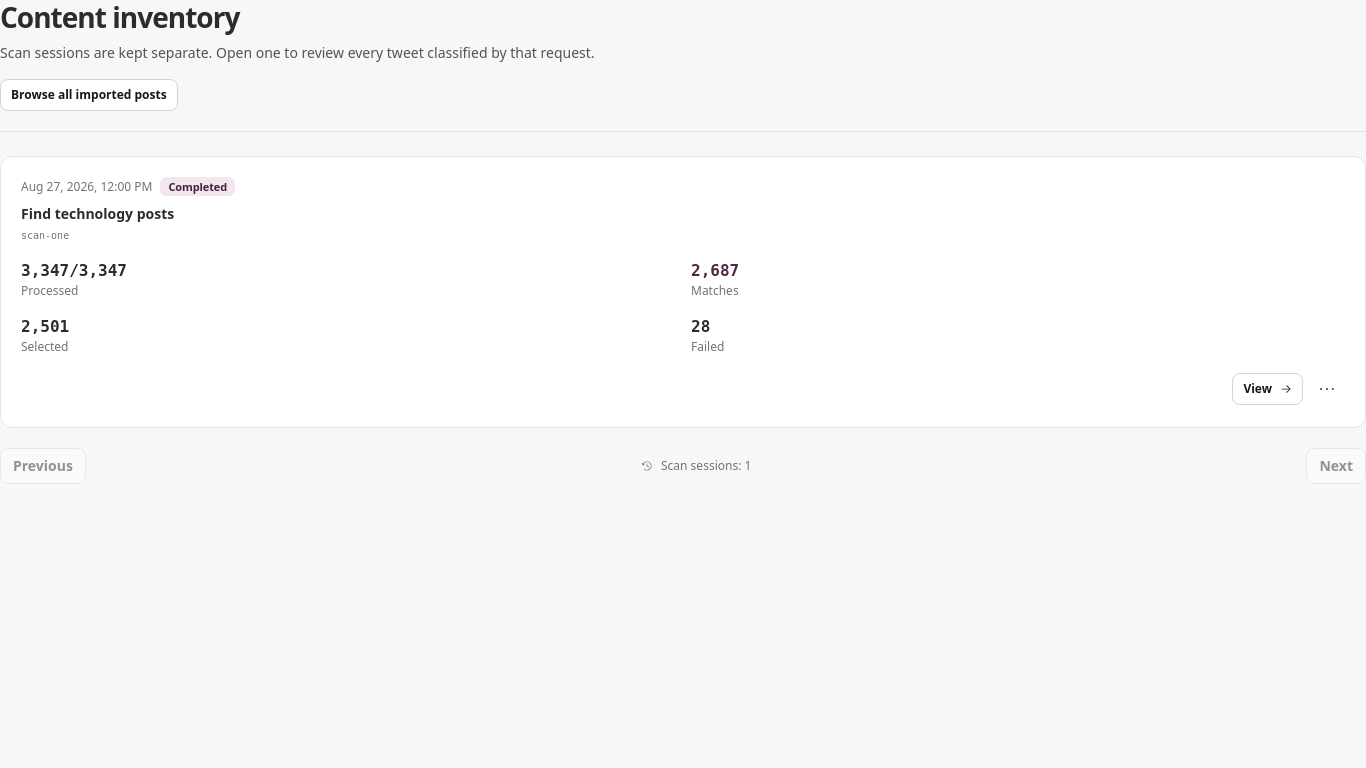
Scenario: redesigned dashboard interactions (isolated, no live APIs) › keeps Inventory as sessions only, and opens tweets only inside a session
Expected: the button named "More actions" is shown, [1309,371,1345,407]
Expected: the text "A full technology post" is not shown
Click the link to "/inventory/scan-one".
click(1268, 389)  # box [1232,373,1303,405]
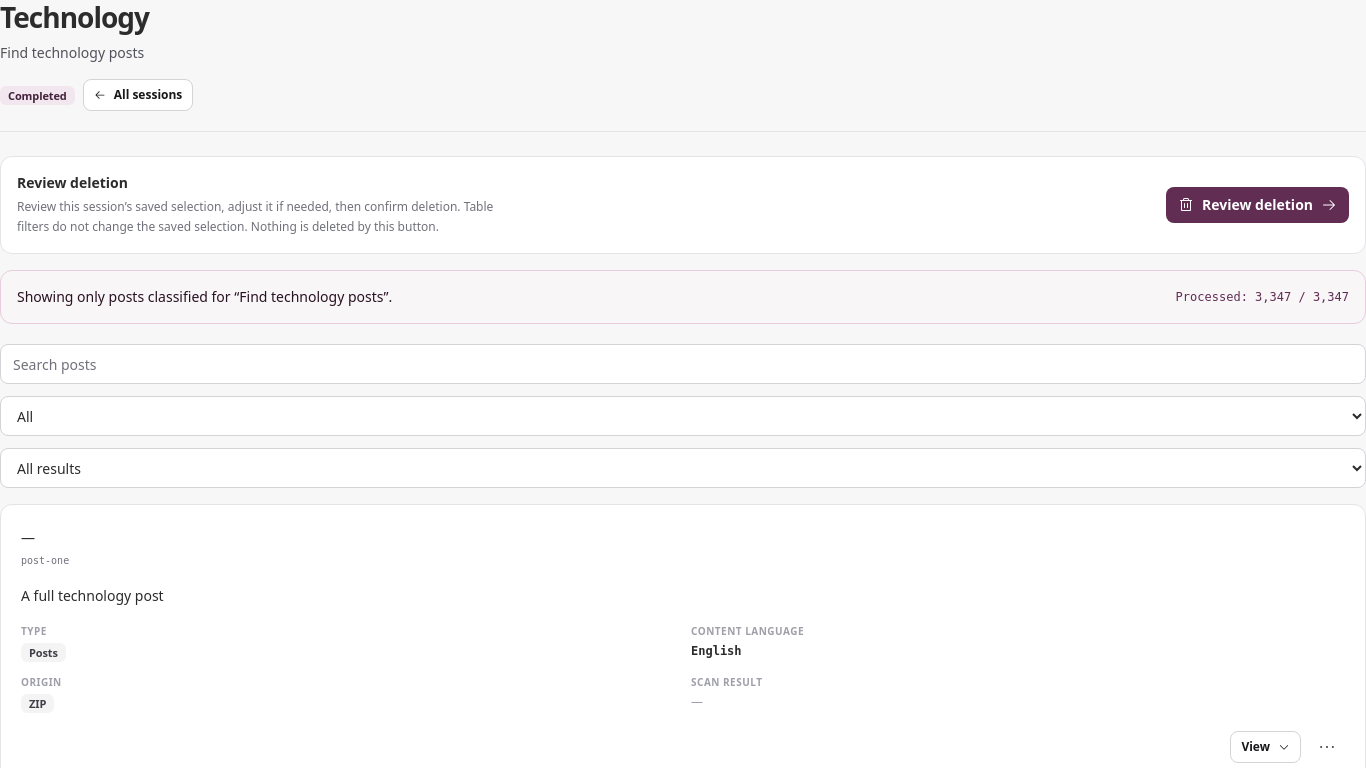
Expected: the button named "More actions" is shown, [1309,729,1345,765]
Expected: the text "A full technology post" is shown, [21,586,164,605]
Expected: the field with placeholder "Search posts" is shown, [0,344,1365,384]
Click the button "View".
click(1266, 747)  # box [1230,731,1301,763]
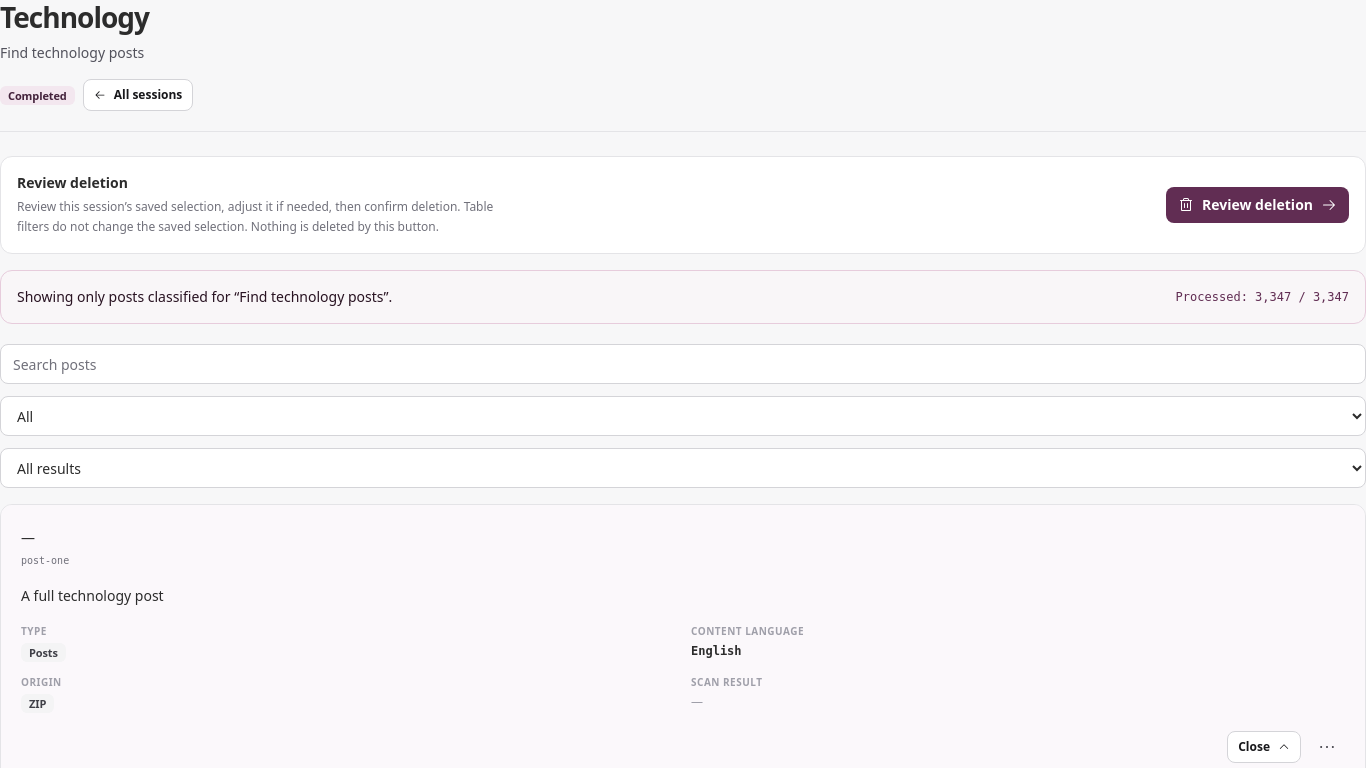
Expected: the button "Close" is shown, [1227,731,1301,763]
Click the link to "/inventory".
click(138, 95)  # box [83,79,193,111]
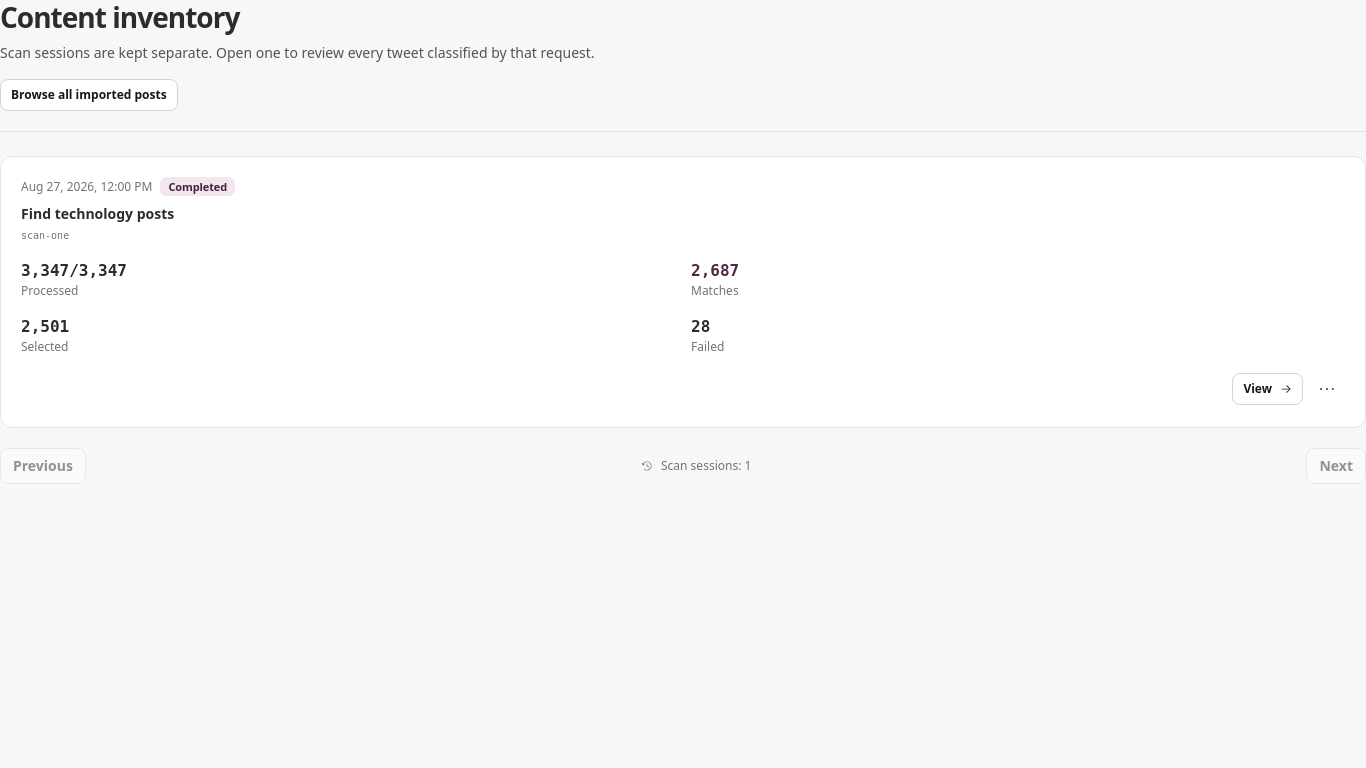
Expected: the text "A full technology post" is gone
